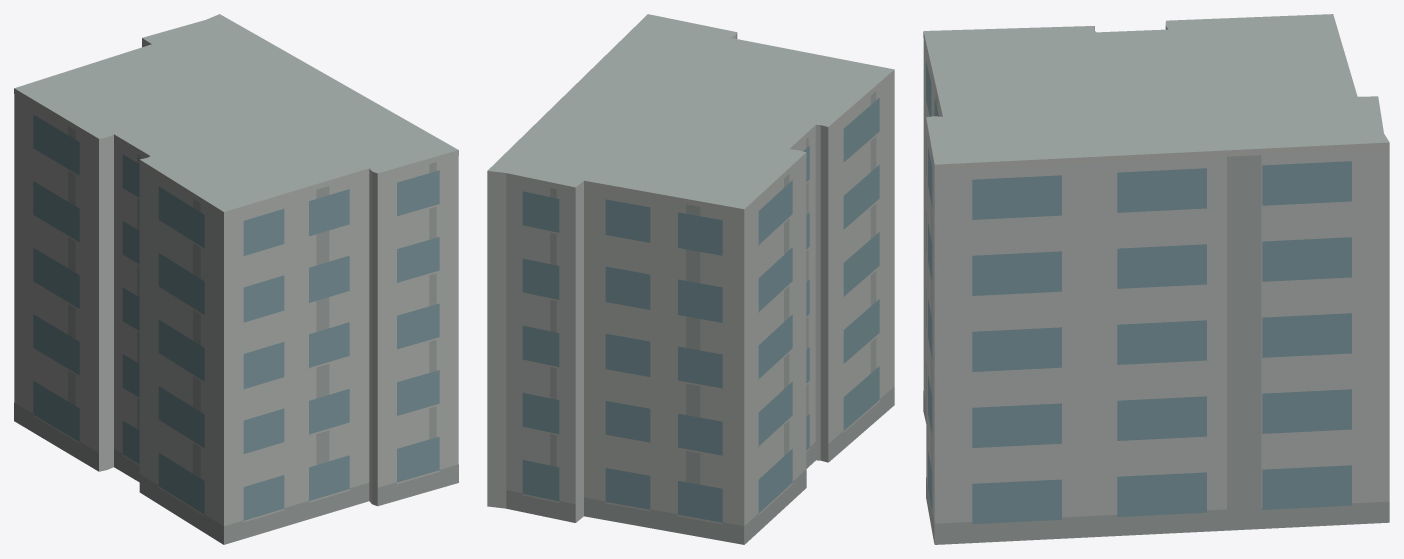
File: survey-upis-32843820.glb
3 views of the same model, side by side, from view 1: azimuth 30°, elevation 25°; view 2: azimuth 150°, elevation 25°; view 3: azimuth 270°, elevation 25° (orthographic). The views are drawn at different scales.
Parts seen in each view (by area): view 1: survey-upis-32843820.tmp; view 2: survey-upis-32843820.tmp; view 3: survey-upis-32843820.tmp.
Boxes of the visible parts, <box> form: survey-upis-32843820.tmp: <box>14,14,458,544</box>; survey-upis-32843820.tmp: <box>487,14,894,544</box>; survey-upis-32843820.tmp: <box>923,14,1389,544</box>.
Bounding box in the file's own units: 12.42 × 14.6 × 16.23.
